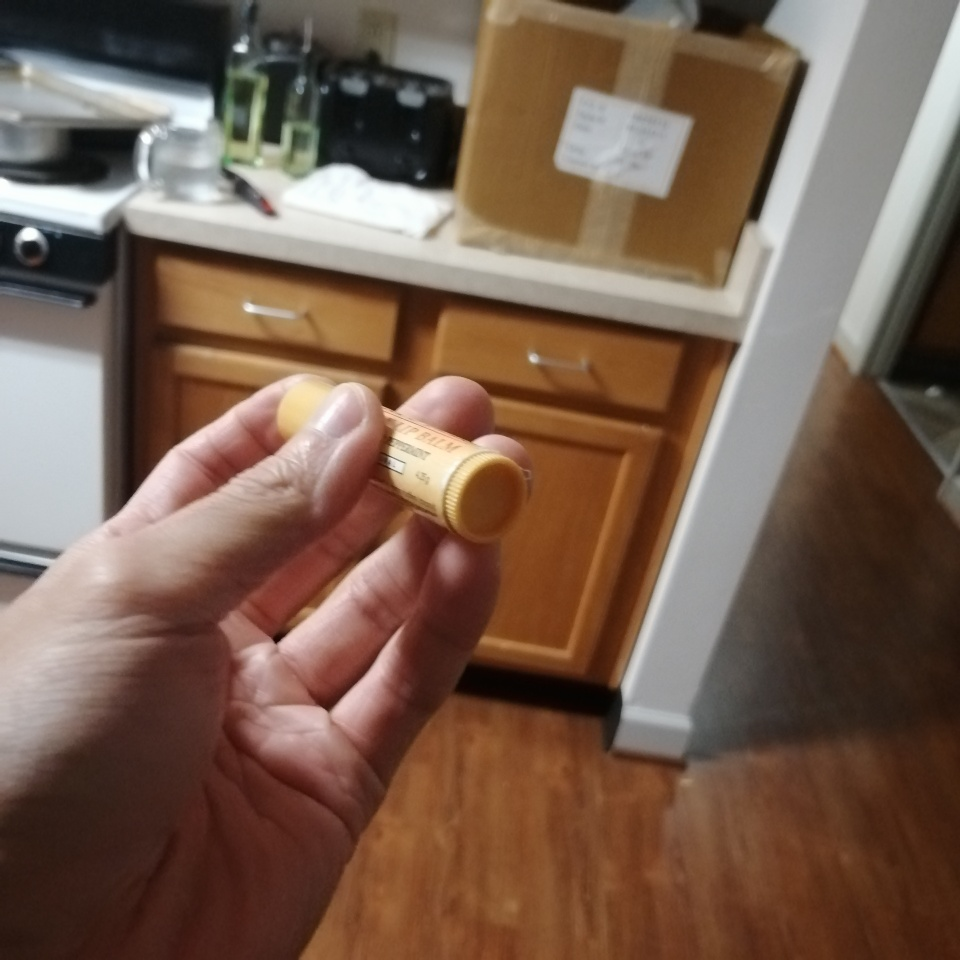chapstick: (275, 377, 530, 544)
